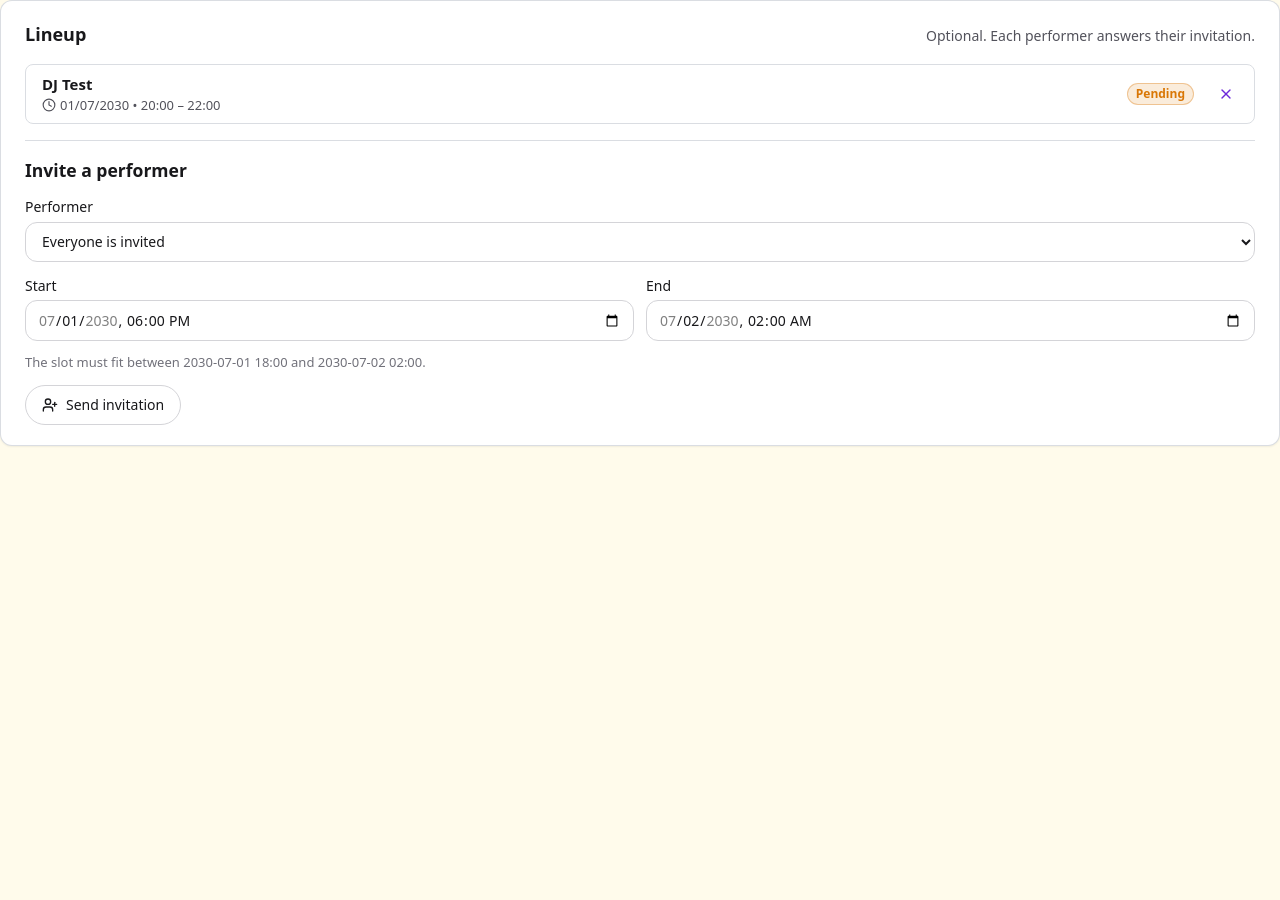
it: LineupSection › withdraws an invitation
The width and height of the screenshot is (1280, 900).
Click the button named "Remove DJ Test from the lineup" at (1226,94), box [1206,78,1246,110]
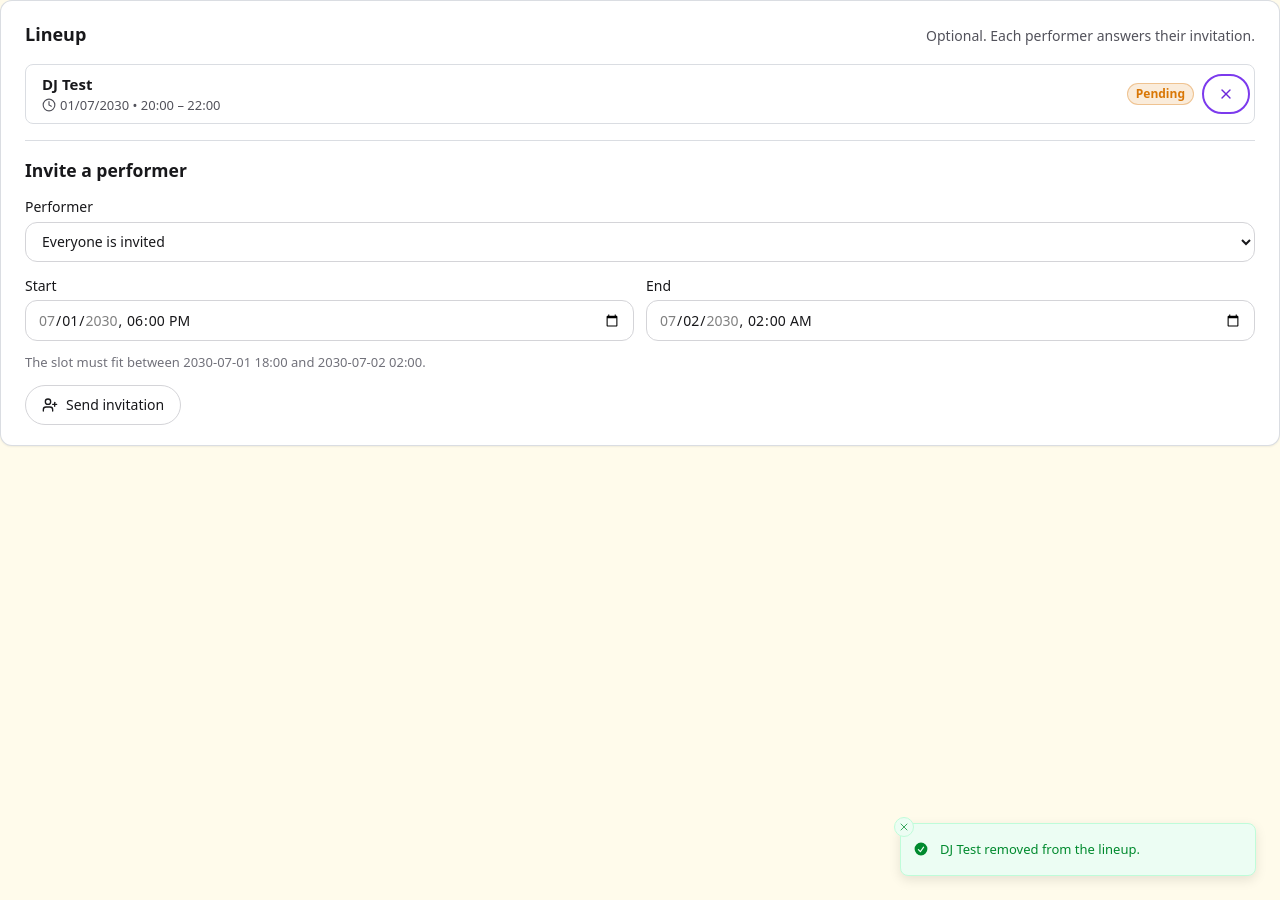
Check: the text "DJ Test removed from the lineup." is shown, box [940,840,1140,859]
